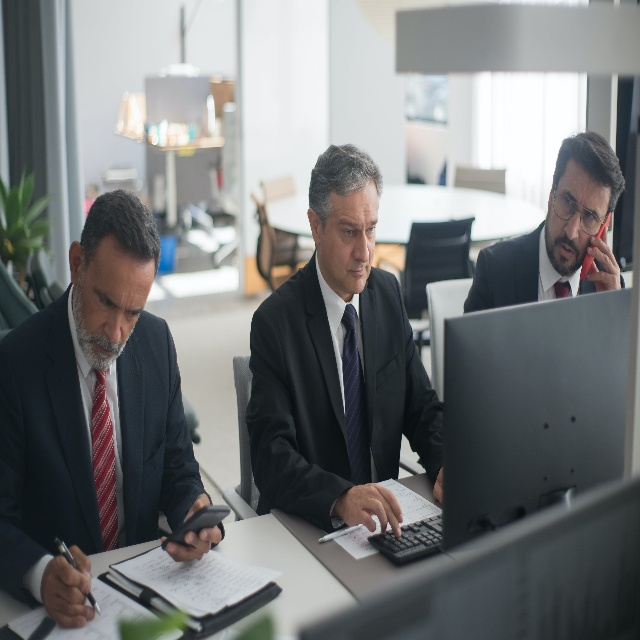Gafas: (553, 181, 608, 237)
Sin_guantes: (40, 545, 97, 630), (160, 493, 223, 562), (340, 481, 404, 538), (586, 226, 620, 292)
